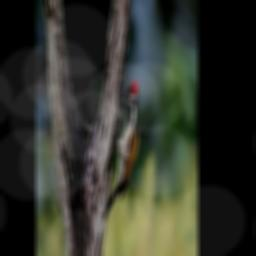Woodpecker: (104, 82, 138, 218)
